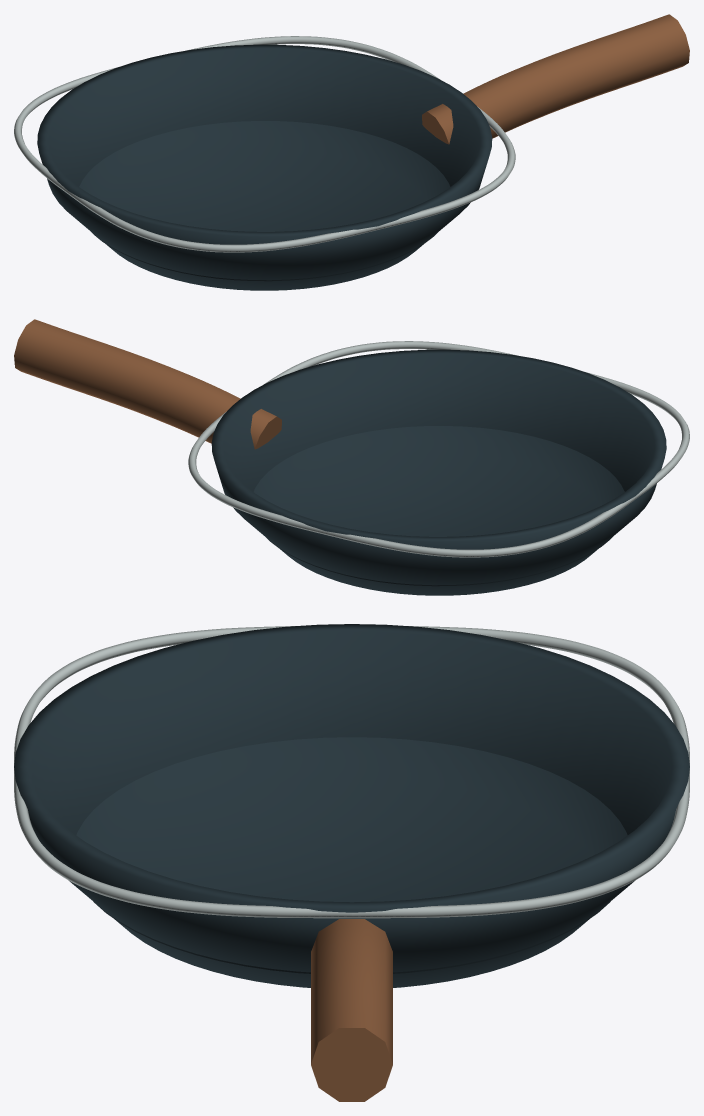
Rendered from Pan.fbx.
3 views of the same model, one above another, from view 1: azimuth 30°, elevation 25°; view 2: azimuth 150°, elevation 25°; view 3: azimuth 270°, elevation 25° (orthographic). The views are drawn at different scales.
Visible parts, largest first — view 1: Surface_KKTC_Rubber, Surface_KKTC_Wood, Surface_KKTC_Metal; view 2: Surface_KKTC_Rubber, Surface_KKTC_Wood, Surface_KKTC_Metal; view 3: Surface_KKTC_Rubber, Surface_KKTC_Metal, Surface_KKTC_Wood.
Part boxes in pixels (x1,y1,x2,y2): Surface_KKTC_Rubber: [37, 44, 492, 290]; Surface_KKTC_Wood: [422, 14, 689, 144]; Surface_KKTC_Metal: [14, 36, 515, 252]; Surface_KKTC_Rubber: [211, 349, 666, 595]; Surface_KKTC_Wood: [14, 319, 281, 449]; Surface_KKTC_Metal: [188, 341, 689, 557]; Surface_KKTC_Rubber: [14, 624, 689, 987]; Surface_KKTC_Metal: [14, 626, 689, 918]; Surface_KKTC_Wood: [311, 919, 392, 1101].
Size of the model in its own units: 35.65 by 5.72 by 23.
